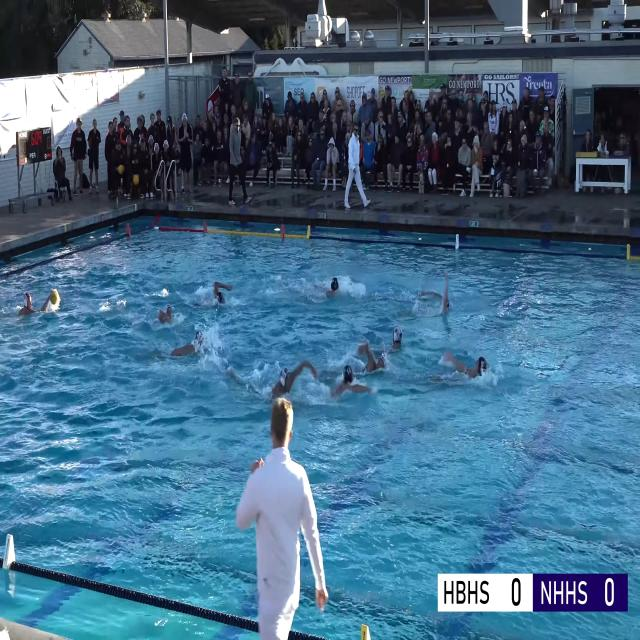ball: (50, 290, 58, 304), (118, 164, 124, 175), (133, 174, 139, 185)
